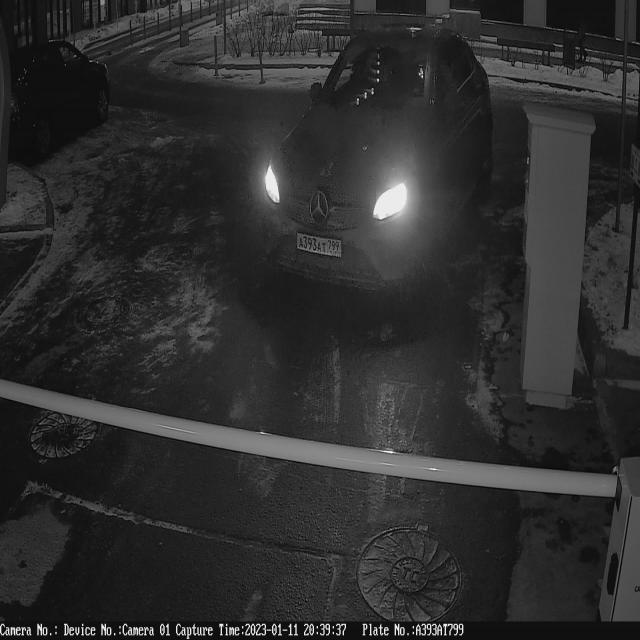car-plate-numbers: (294, 227, 347, 263)
